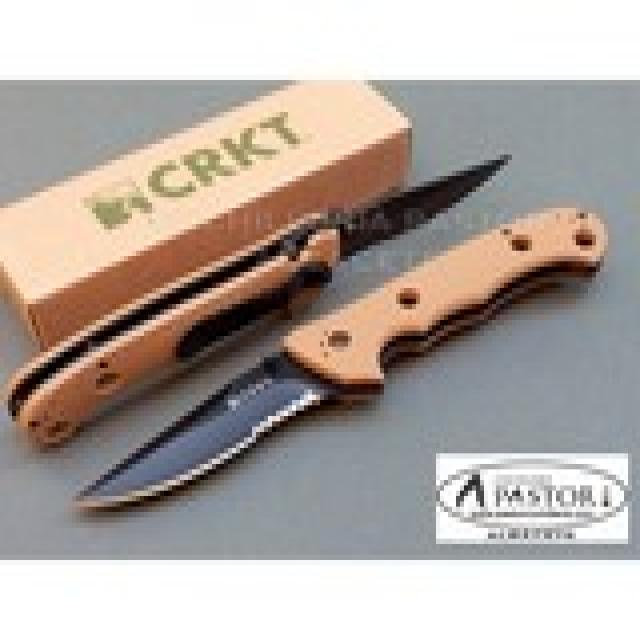Knife: (15, 142, 622, 512)
